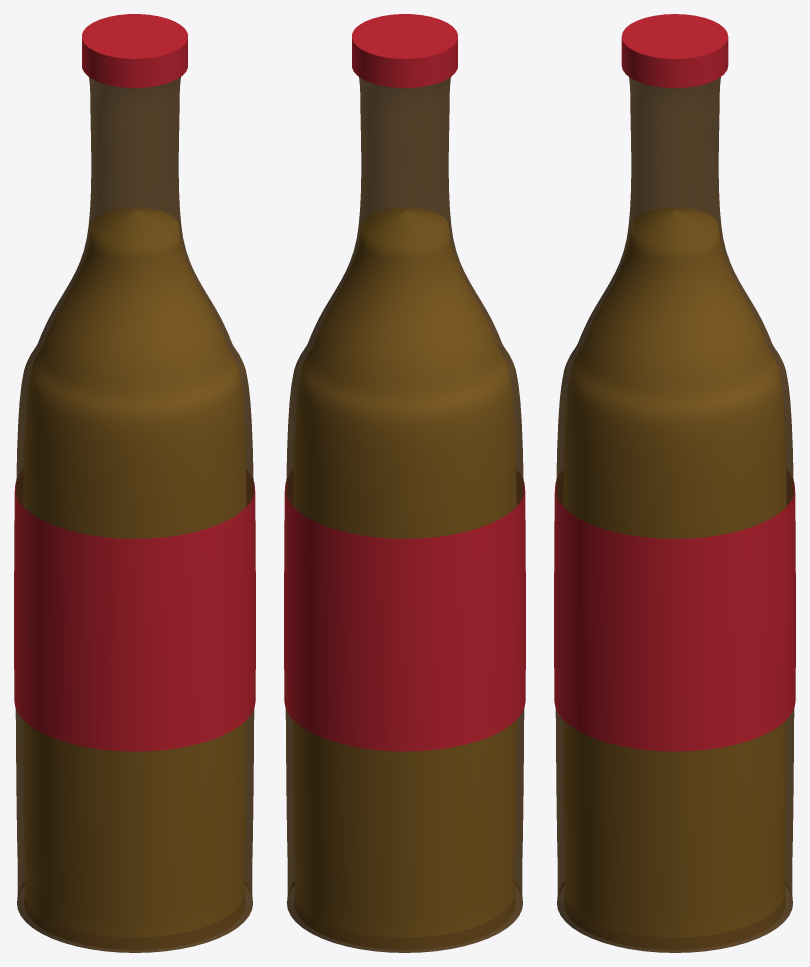
File: poker.glb
3 renders of one model, left to right at view 1: azimuth 30°, elevation 25°; view 2: azimuth 150°, elevation 25°; view 3: azimuth 270°, elevation 25°, orthographic.
Visible parts, largest first — view 1: vidrio, liquido, etiqueta, tapa; view 2: vidrio, liquido, etiqueta, tapa; view 3: vidrio, liquido, etiqueta, tapa.
Boxes of the visible parts, box(x1,y1,x2,y2) form: vidrio: box(15, 77, 254, 952); liquido: box(23, 207, 246, 937); etiqueta: box(14, 481, 255, 751); tapa: box(82, 14, 187, 87); vidrio: box(285, 77, 524, 952); liquido: box(293, 207, 516, 937); etiqueta: box(284, 481, 525, 751); tapa: box(352, 14, 457, 87); vidrio: box(555, 77, 794, 952); liquido: box(563, 207, 786, 937); etiqueta: box(554, 481, 795, 751); tapa: box(621, 14, 728, 88).
Size of the model in its own units: 0.0618 by 0.2443 by 0.0618.
